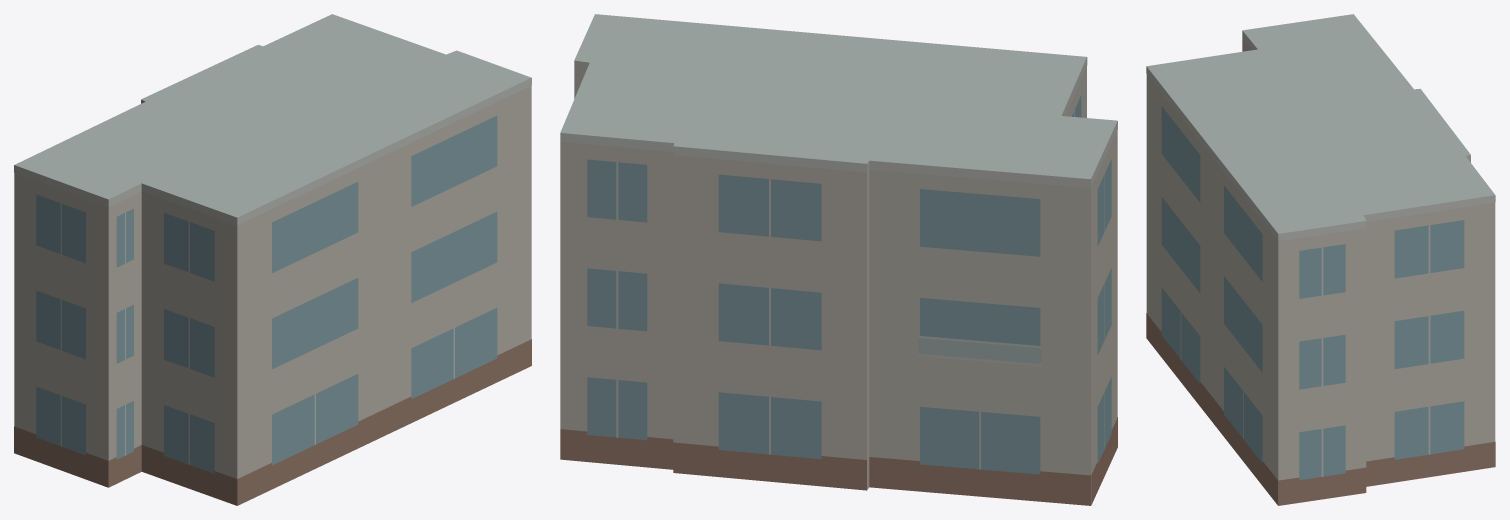
File: survey-upis-33005812.glb
The picture shows the model from 3 angles, left to right: view 1: azimuth 30°, elevation 25°; view 2: azimuth 150°, elevation 25°; view 3: azimuth 270°, elevation 25°; orthographic projection. The views are drawn at different scales.
Visible parts, largest first — view 1: survey-upis-33005812.tmp; view 2: survey-upis-33005812.tmp; view 3: survey-upis-33005812.tmp.
Part boxes in pixels (left/top/right/bottom): survey-upis-33005812.tmp: left=14, top=14, right=531, bottom=505; survey-upis-33005812.tmp: left=560, top=14, right=1117, bottom=505; survey-upis-33005812.tmp: left=1146, top=14, right=1495, bottom=505.
Bounding box in the file's own units: 15.76 × 9.08 × 10.57.
